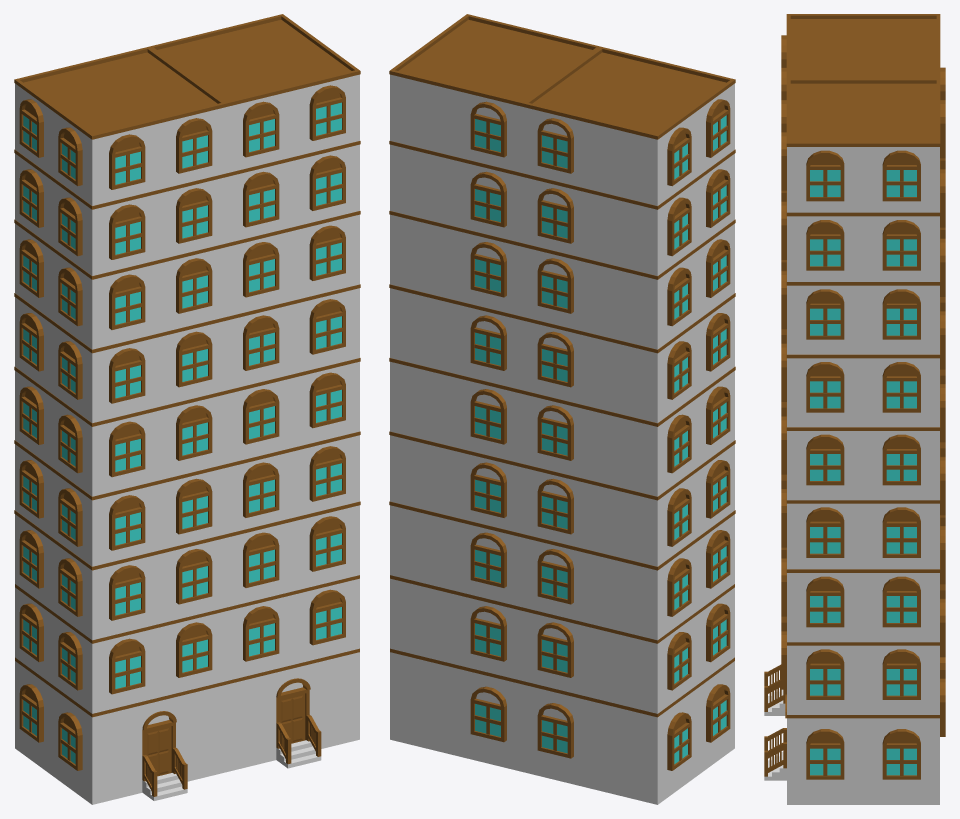
The model's file is OldHouse.fbx.
3 renders of one model, left to right at view 1: azimuth 30°, elevation 25°; view 2: azimuth 150°, elevation 25°; view 3: azimuth 270°, elevation 25°, orthographic.
Visible parts, largest first — view 1: Plane; view 2: Plane; view 3: Plane.
Part boxes in pixels (left/top/right/bottom): Plane: left=14, top=14, right=360, bottom=804; Plane: left=389, top=14, right=735, bottom=804; Plane: left=764, top=14, right=945, bottom=804.
Size of the model in its own units: 830 by 1910 by 475.
